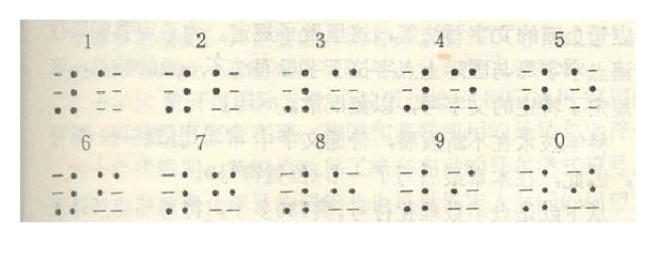Braille: (209, 170, 241, 217), (161, 169, 191, 217), (450, 167, 480, 214), (281, 169, 311, 215), (164, 67, 193, 113), (213, 68, 241, 115), (282, 67, 310, 113), (51, 171, 79, 217), (96, 171, 124, 217), (401, 169, 429, 215), (450, 68, 479, 112), (97, 69, 124, 116), (332, 169, 359, 216), (571, 67, 598, 113), (53, 70, 79, 116), (523, 166, 549, 212), (332, 68, 359, 112), (402, 68, 429, 112), (571, 169, 596, 213), (523, 70, 549, 112)
